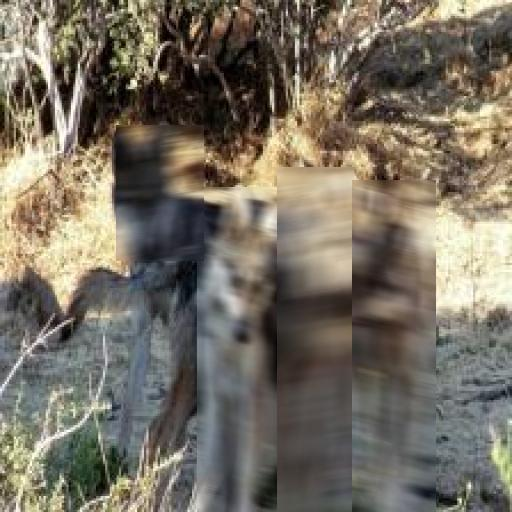wolf: (352, 180, 436, 512), (197, 187, 281, 512), (277, 167, 354, 512), (116, 126, 204, 262)
